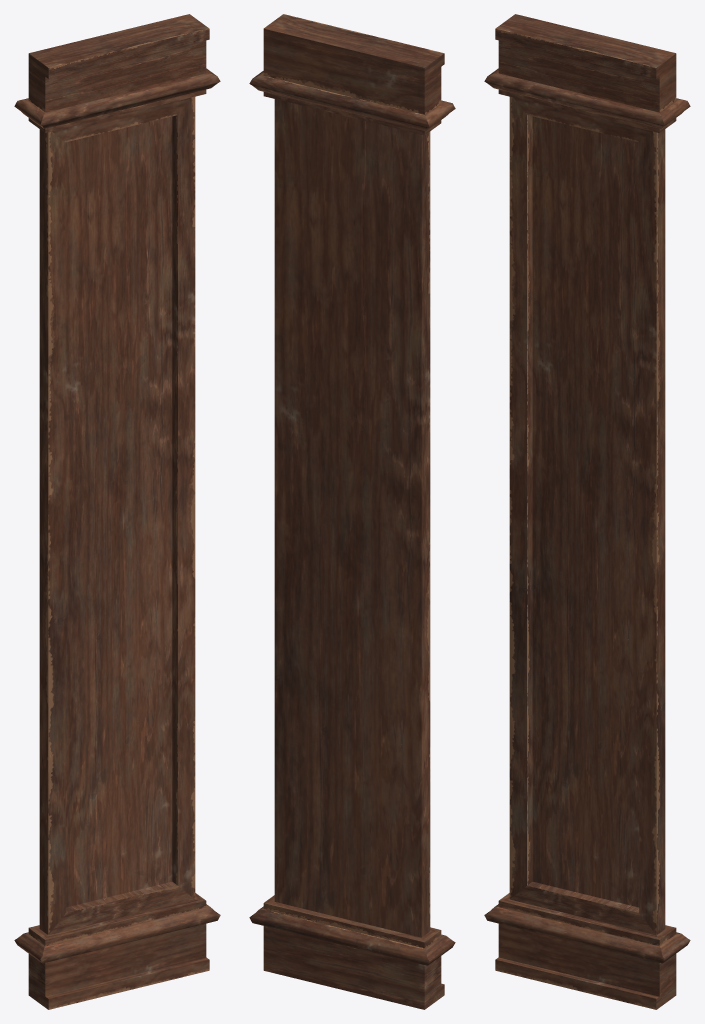
File: Kit_WoodSmallColon.fbx
The picture shows the model from 3 angles, left to right: view 1: azimuth 30°, elevation 25°; view 2: azimuth 150°, elevation 25°; view 3: azimuth 330°, elevation 25°; orthographic projection.
Parts seen in each view (by area): view 1: Kit_WoodSmallColon; view 2: Kit_WoodSmallColon; view 3: Kit_WoodSmallColon.
Part boxes in pixels (left/top/right/bottom): Kit_WoodSmallColon: left=14, top=14, right=220, bottom=1009; Kit_WoodSmallColon: left=249, top=14, right=455, bottom=1009; Kit_WoodSmallColon: left=484, top=14, right=690, bottom=1009.
Size of the model in its own units: 22.48 by 112 by 5.61.
